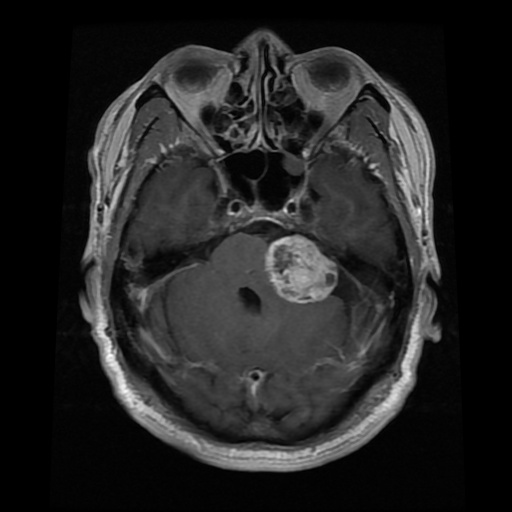meningioma: (266, 234, 336, 301)
